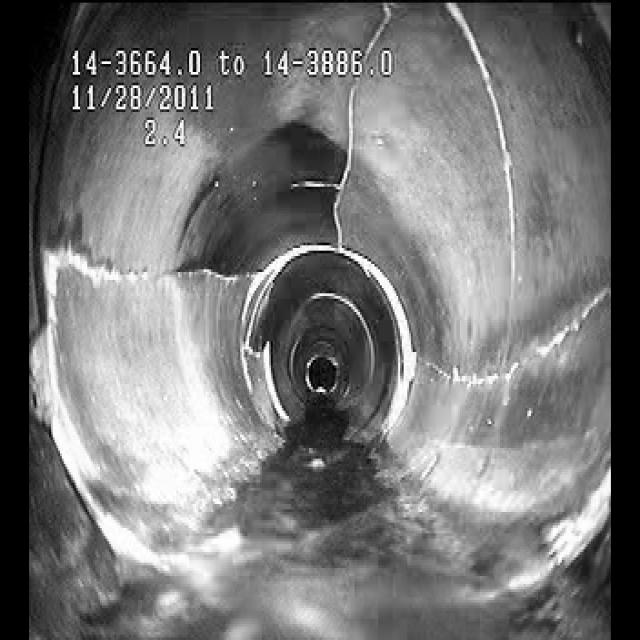Fracture: (417, 288, 601, 404), (58, 223, 232, 329)
